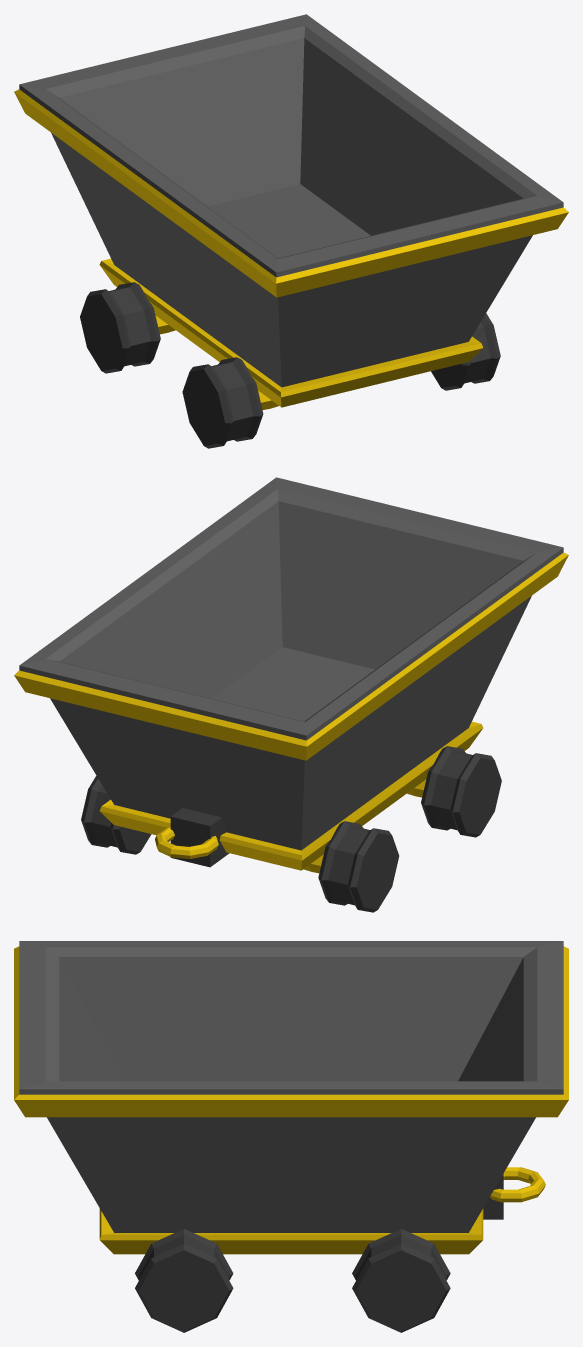
Rendered from Obj1-Vagoneta.glb.
3 views of the same model, one above another, from view 1: azimuth 30°, elevation 25°; view 2: azimuth 150°, elevation 25°; view 3: azimuth 270°, elevation 25° (orthographic). The views are drawn at different scales.
Parts seen in each view (by area): view 1: Cube.747, Cube.745; view 2: Cube.747, Cube.745, Cube.746, Torus.001; view 3: Cube.747, Cube.745, Torus.001.
Part boxes in pixels (x1,y1,x2,y2): Cube.747: [14, 14, 568, 407]; Cube.745: [80, 282, 500, 448]; Cube.747: [14, 477, 568, 870]; Cube.745: [81, 746, 501, 912]; Cube.746: [170, 808, 229, 867]; Torus.001: [155, 827, 218, 858]; Cube.747: [14, 941, 568, 1254]; Cube.745: [135, 1228, 450, 1332]; Torus.001: [490, 1167, 545, 1202].
Bounding box in the file's own units: 1.38 × 1.06 × 2.14.
